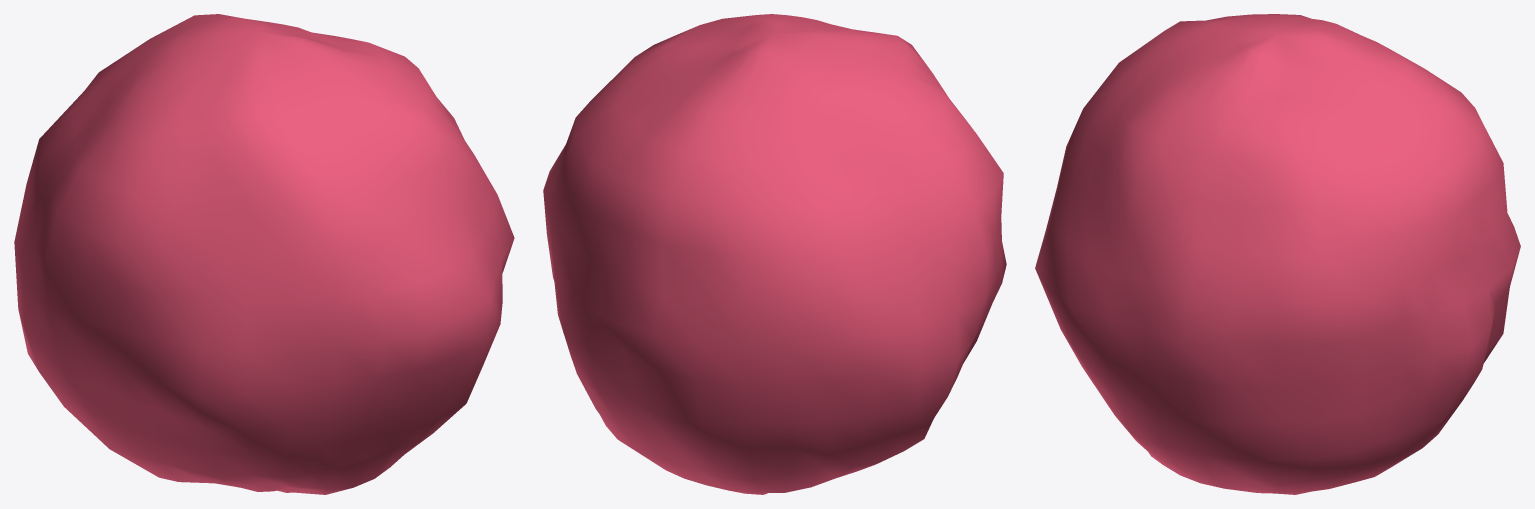
Rendered from iceCreamStrawberry.glb.
The picture shows the model from 3 angles, left to right: view 1: azimuth 30°, elevation 25°; view 2: azimuth 150°, elevation 25°; view 3: azimuth 270°, elevation 25°; orthographic projection. The views are drawn at different scales.
Visible parts, largest first — view 1: IceCream; view 2: IceCream; view 3: IceCream.
Part boxes in pixels (x1,y1,x2,y2): IceCream: [14, 14, 514, 494]; IceCream: [543, 14, 1006, 494]; IceCream: [1035, 14, 1520, 494].
Size of the model in its own units: 1.11 by 1.12 by 1.13.
